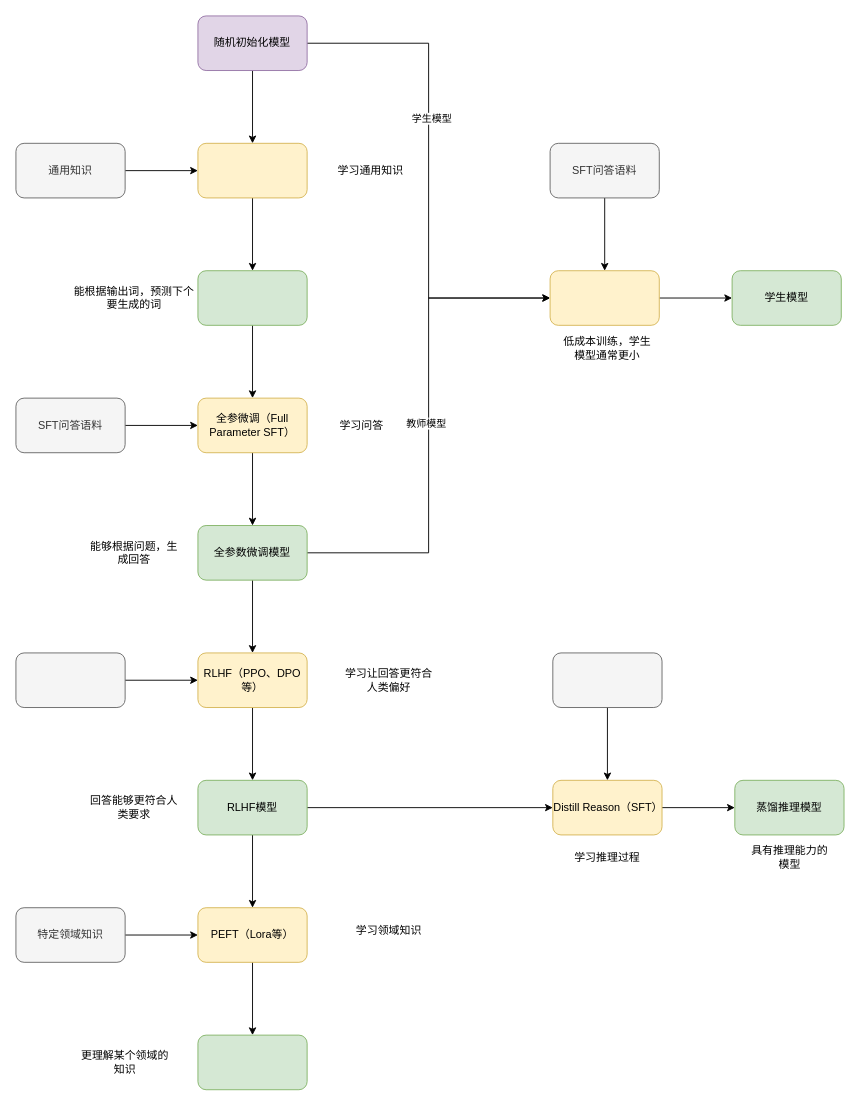
Some shapes in this 860 by 1106 pixel diagram are drawn without their labels. The centre of each missing label's shape, as x and y in pixels:
"peft_model" goes at (252,1062).
"RLHF语料" goes at (70,680).
"思考推理数据集" goes at (607,680).
"知识蒸馏（Distill）" goes at (604,297).
"预训练模型" goes at (252,297).
"预训练（Pretrain）" goes at (252,170).
